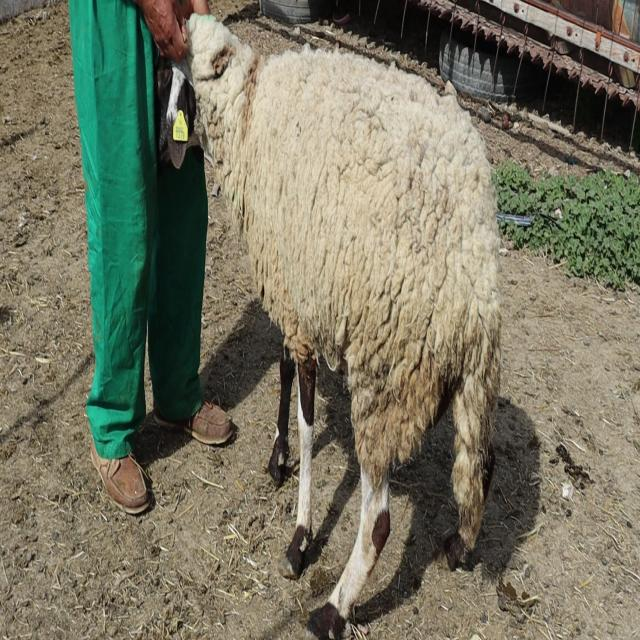Score_2: (157, 14, 501, 638)
